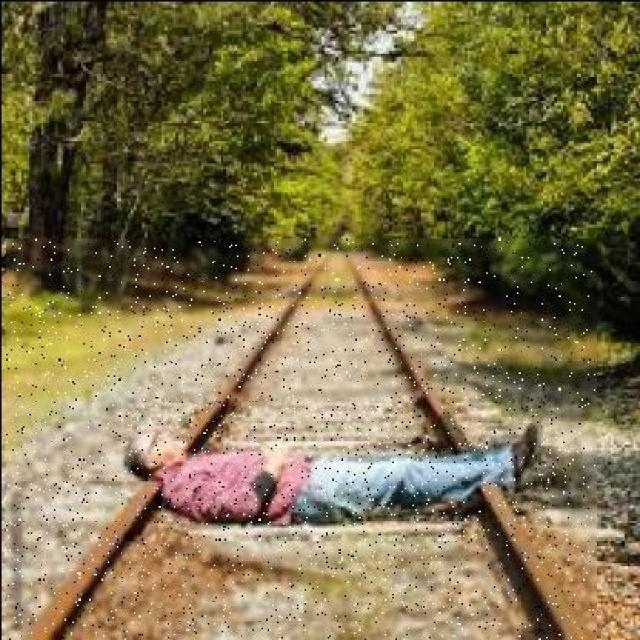danger: (123, 399, 557, 538)
rail: (6, 238, 594, 638)
